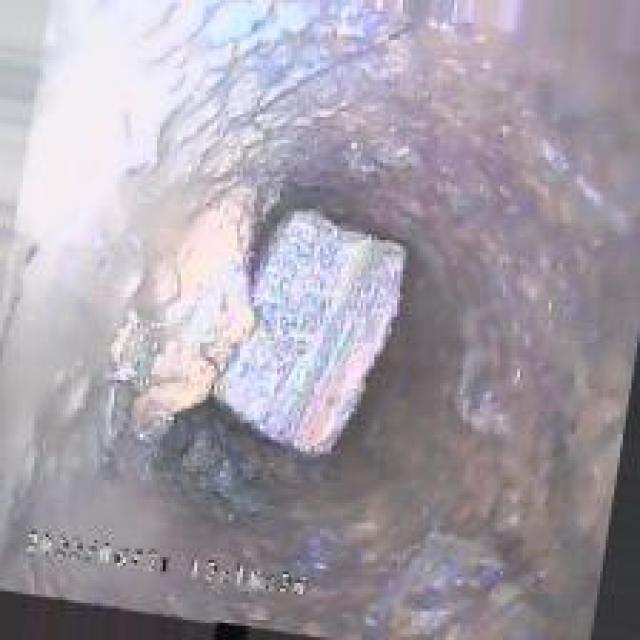stone: (217, 203, 400, 460)
